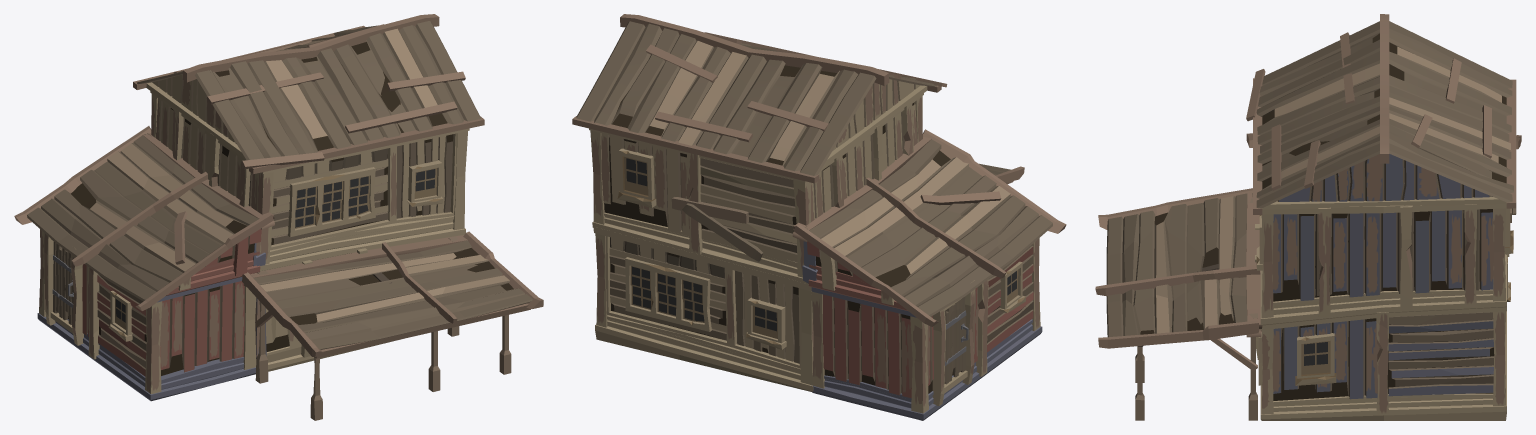
File: SM_Bld_Shanty_Preset_02.fbx
The picture shows the model from 3 angles, left to right: view 1: azimuth 30°, elevation 25°; view 2: azimuth 150°, elevation 25°; view 3: azimuth 270°, elevation 25°; orthographic projection. The views are drawn at different scales.
Visible parts, largest first — view 1: SM_Bld_Shanty_Preset_02; view 2: SM_Bld_Shanty_Preset_02; view 3: SM_Bld_Shanty_Preset_02.
Boxes of the visible parts, x1,y1,x2,y2 form: SM_Bld_Shanty_Preset_02: [14, 14, 543, 420]; SM_Bld_Shanty_Preset_02: [572, 14, 1066, 420]; SM_Bld_Shanty_Preset_02: [1095, 14, 1521, 420].
Bounding box in the file's own units: 9.33 × 6.62 × 8.64.
